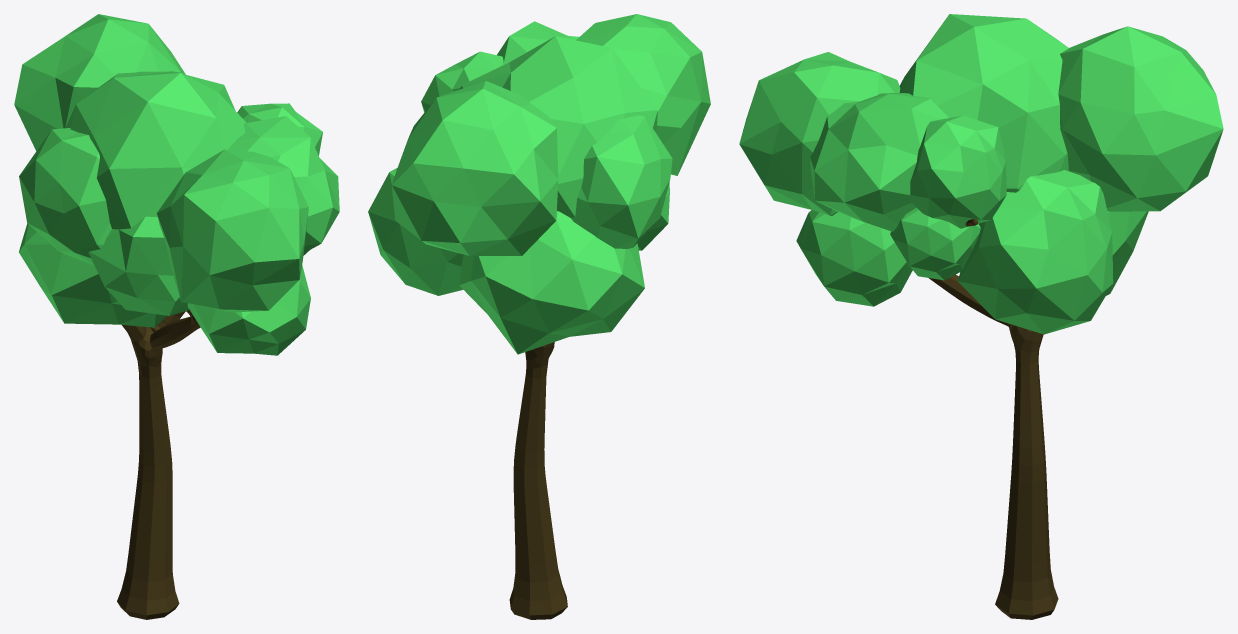
File: Tree2.fbx
3 renders of one model, left to right at view 1: azimuth 30°, elevation 25°; view 2: azimuth 150°, elevation 25°; view 3: azimuth 270°, elevation 25°, orthographic. The views are drawn at different scales.
Visible parts, largest first — view 1: Icosphere.002, Plane; view 2: Icosphere.002, Plane; view 3: Icosphere.002, Plane.
Part boxes in pixels (box(x1,y1,x2,y2)): Icosphere.002: box(14, 14, 339, 355); Plane: box(117, 309, 200, 619); Icosphere.002: box(368, 14, 710, 354); Plane: box(509, 342, 567, 619); Icosphere.002: box(739, 14, 1223, 334); Plane: box(929, 219, 1058, 619).
Bounding box in the file's own units: 827 × 546 × 1110.
